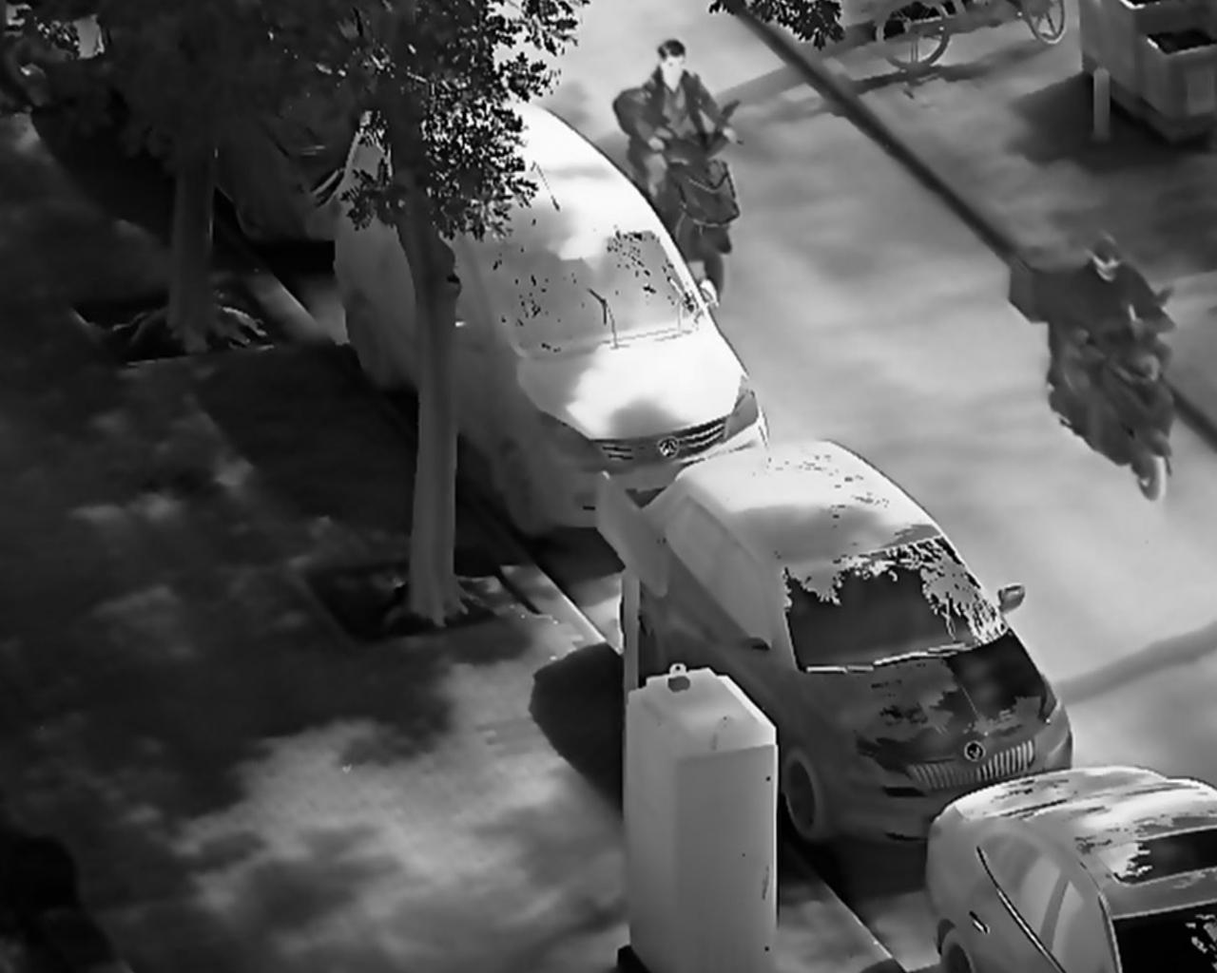person: (1052, 225, 1180, 409), (632, 34, 746, 207)
